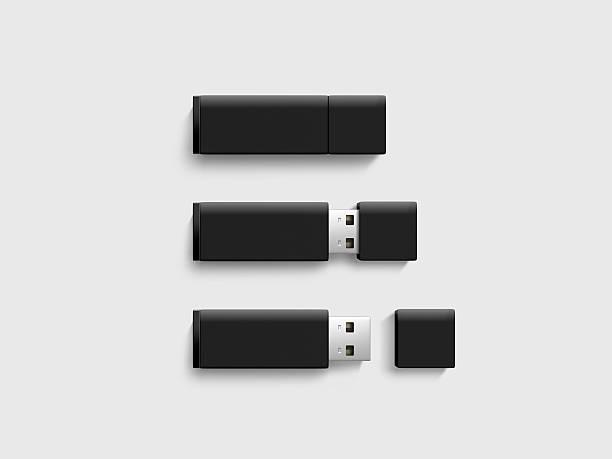USB Flash Drive: (192, 309, 371, 370)
